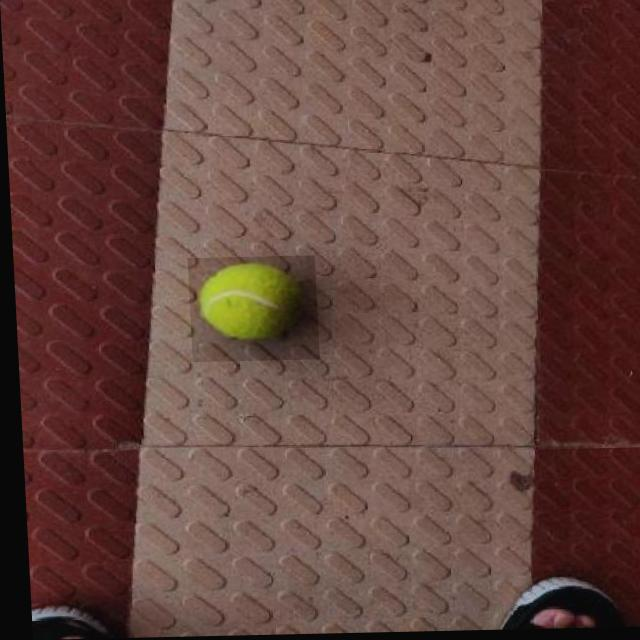-: (185, 257, 316, 363)
